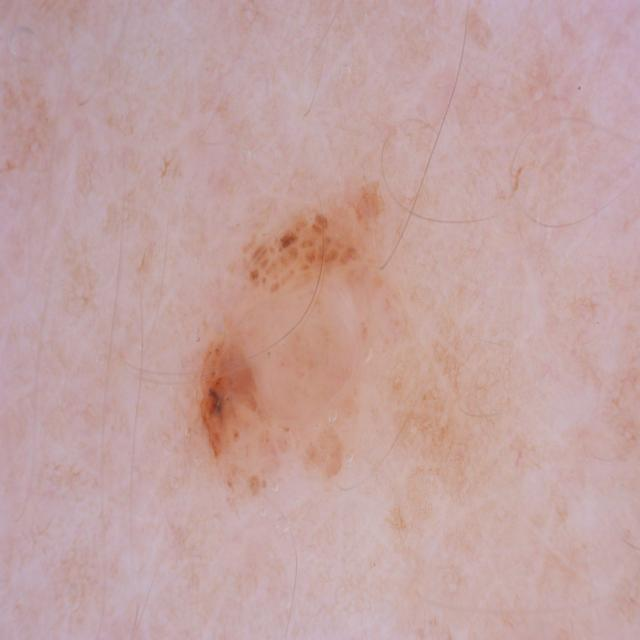Benign: (188, 215, 418, 524)
